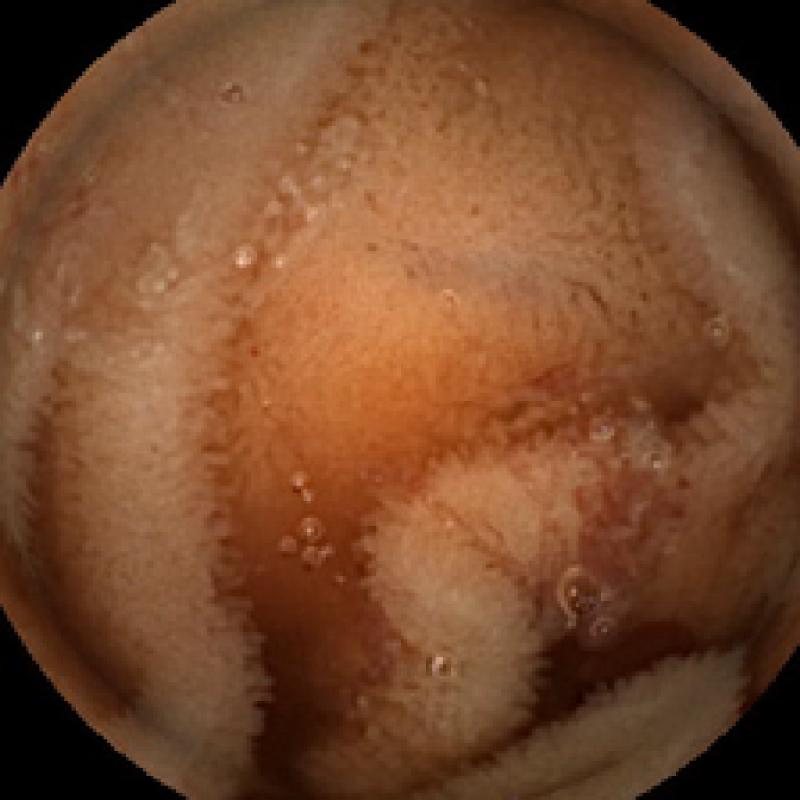bleeding: (532, 622, 750, 714)
